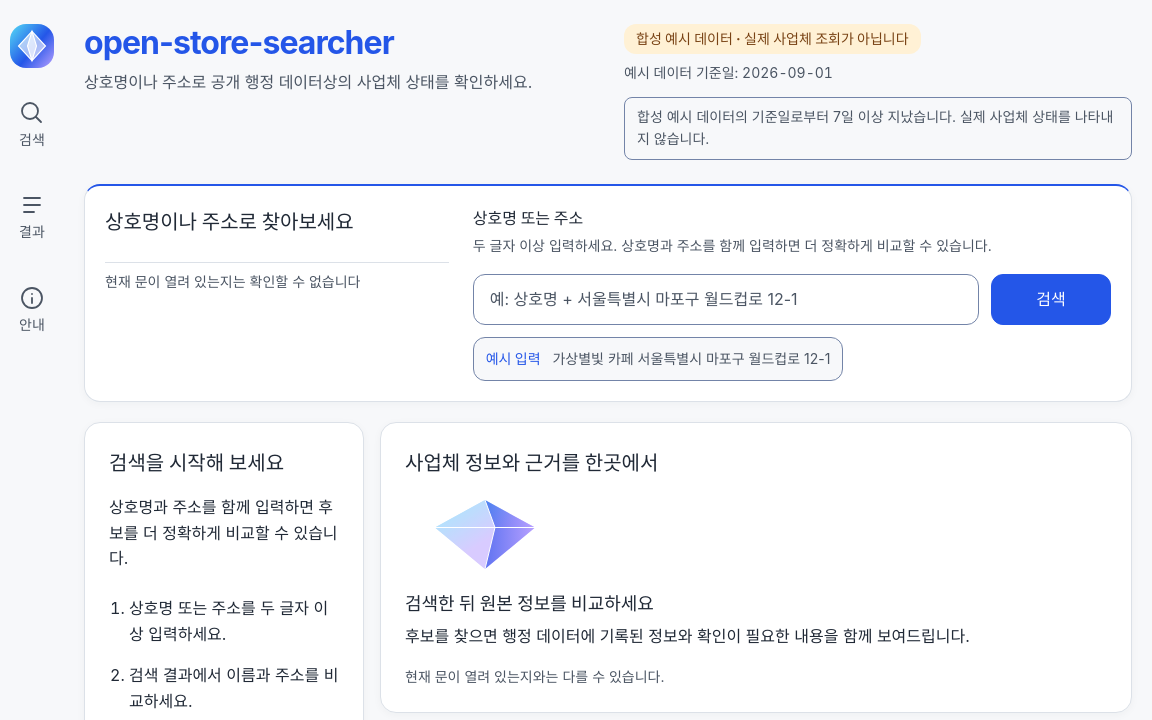
Test: TASK-017 accessible search › names candidate lists and distinguishes same-name addresses without changing evidence
Type "가상별빛 카페" into the search field at (726,299), box [473,274,979,325]
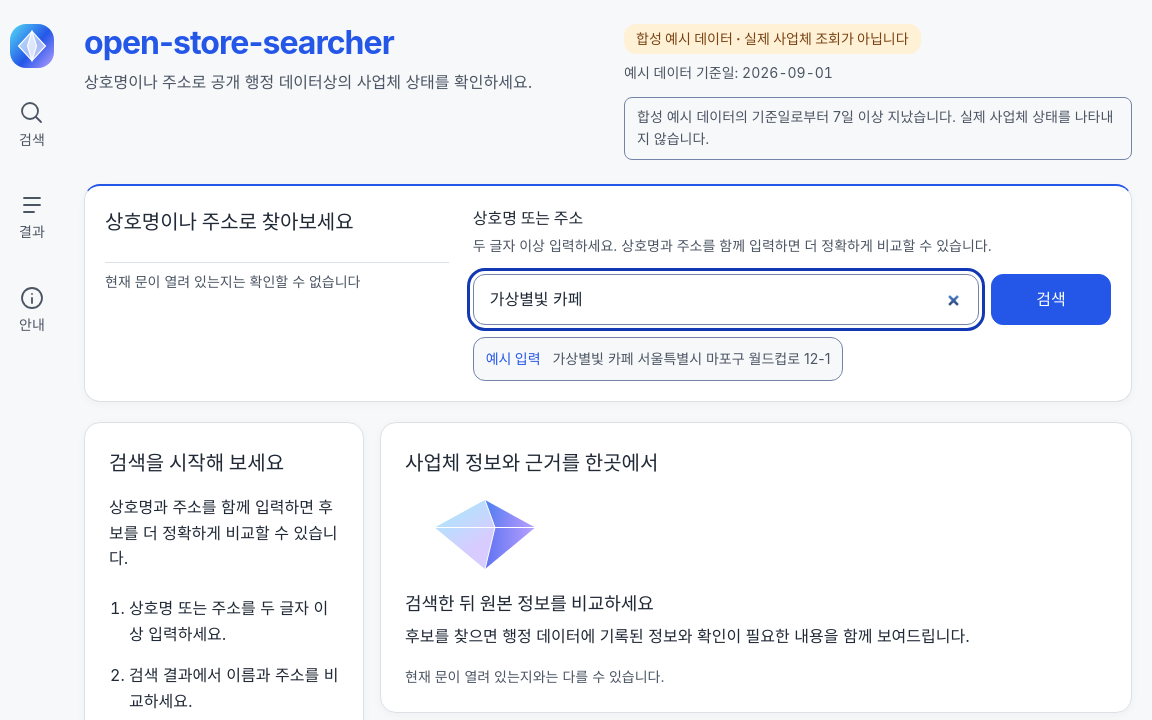
Click the button "검색" in the row of "현재 문이 열려 있는지는 확인할 수 없습니다" at (1051,299), box [991,274,1111,325]
(page scrolled)
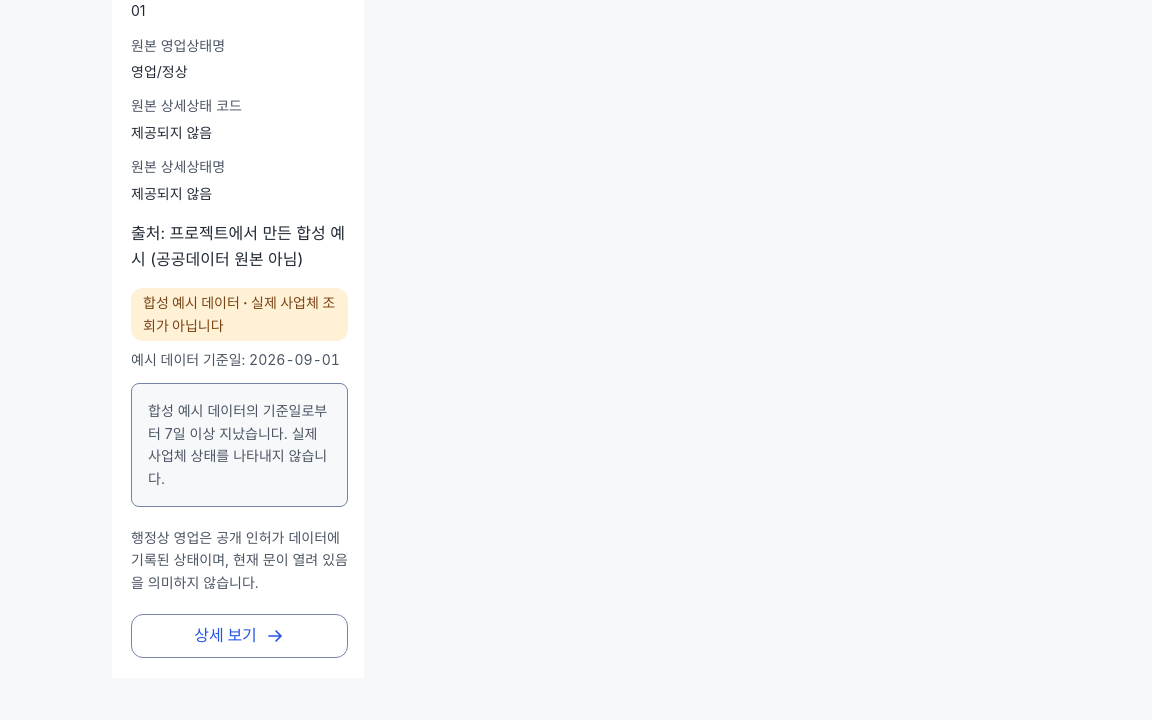
expect the number of list items is 2: met
expect the text "예시 데이터 기준일: 2026-09-01" is shown: met, box [131,349,348,371]
